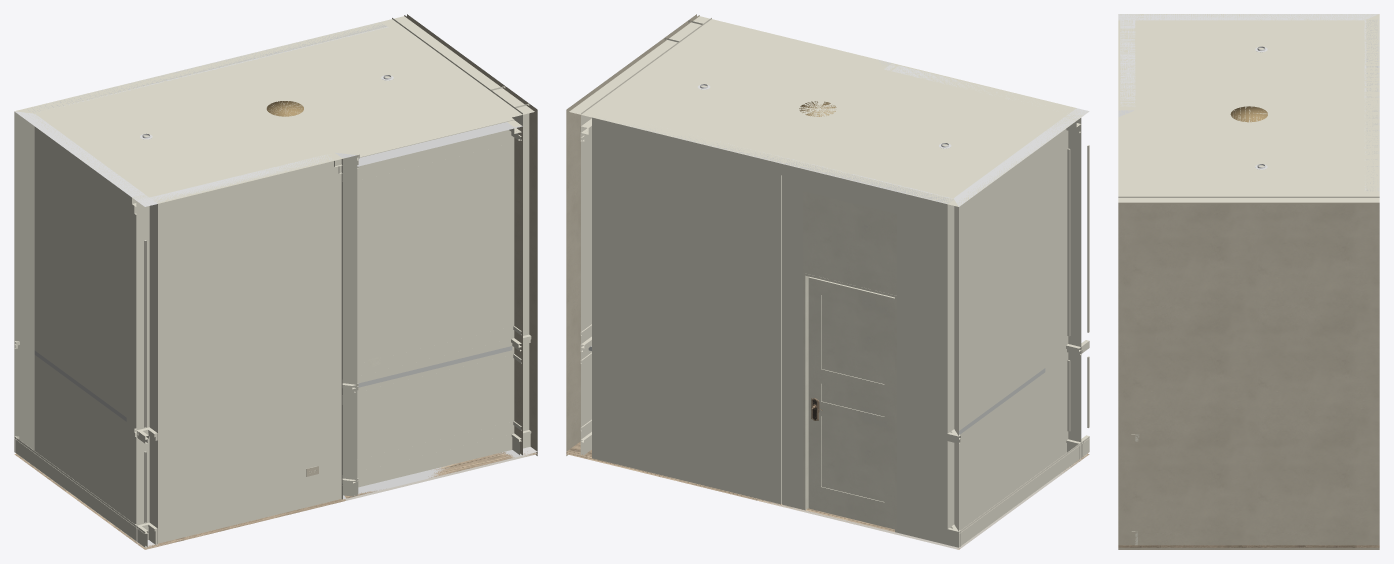
The model's file is pantry-e1a1a0a4acc9.glb.
3 views of the same model, side by side, from view 1: azimuth 30°, elevation 25°; view 2: azimuth 150°, elevation 25°; view 3: azimuth 270°, elevation 25° (orthographic).
Parts seen in each view (by area): view 1: pantry-e1ae12ec9cba52a2, pantry-e64cabe238f3e83a, pantry-2575515a05775d9e, pantry-5b6bbac285e58726, pantry-6a1144f4e43410bb, pantry-e462de76b61e99cf, pantry-1b1dac62f3b0f38e, pantry-ab25ce0be192bde7, pantry-2c29ddcb8551cb02, pantry-3b0077416469e01b, pantry-4b4a529ae091588b, pantry-fd42d08ba78d189d (+9 smaller); view 2: pantry-bd4023b7987ad736, pantry-2575515a05775d9e, pantry-5b6bbac285e58726, pantry-90d279c9f3741083, pantry-af97eba351c411ae, pantry-151470939db8c09f, pantry-2c29ddcb8551cb02, pantry-b9e31e055fa428f9, pantry-4b4a529ae091588b, pantry-6a1144f4e43410bb, pantry-3b0077416469e01b, pantry-ecf72e0057751250 (+4 smaller); view 3: pantry-af97eba351c411ae, pantry-2575515a05775d9e, pantry-ab25ce0be192bde7, pantry-e462de76b61e99cf, pantry-4b4a529ae091588b, pantry-5b6bbac285e58726, pantry-e1ae12ec9cba52a2, pantry-ecf72e0057751250, pantry-710b1f455b9f0804, pantry-bd4023b7987ad736, pantry-deb6bd5c54985daf, pantry-3b0077416469e01b (+2 smaller).
Part boxes in pixels (bbox=[...]): pantry-e1ae12ec9cba52a2: bbox=[149, 154, 341, 543]; pantry-e64cabe238f3e83a: bbox=[342, 122, 522, 495]; pantry-2575515a05775d9e: bbox=[15, 15, 534, 203]; pantry-5b6bbac285e58726: bbox=[14, 111, 149, 540]; pantry-6a1144f4e43410bb: bbox=[136, 197, 157, 546]; pantry-e462de76b61e99cf: bbox=[514, 104, 537, 455]; pantry-1b1dac62f3b0f38e: bbox=[135, 434, 512, 524]; pantry-ab25ce0be192bde7: bbox=[490, 86, 529, 431]; pantry-2c29ddcb8551cb02: bbox=[14, 437, 145, 547]; pantry-3b0077416469e01b: bbox=[14, 451, 537, 549]; pantry-4b4a529ae091588b: bbox=[35, 27, 391, 116]; pantry-fd42d08ba78d189d: bbox=[357, 117, 514, 172]; pantry-bd4023b7987ad736: bbox=[592, 117, 954, 544]; pantry-2575515a05775d9e: bbox=[569, 15, 1087, 206]; pantry-5b6bbac285e58726: bbox=[953, 114, 1081, 547]; pantry-90d279c9f3741083: bbox=[808, 277, 894, 529]; pantry-af97eba351c411ae: bbox=[566, 37, 679, 455]; pantry-151470939db8c09f: bbox=[803, 191, 896, 295]; pantry-2c29ddcb8551cb02: bbox=[959, 436, 1089, 547]; pantry-b9e31e055fa428f9: bbox=[803, 273, 896, 532]; pantry-4b4a529ae091588b: bbox=[601, 110, 957, 198]; pantry-6a1144f4e43410bb: bbox=[1068, 108, 1089, 440]; pantry-3b0077416469e01b: bbox=[566, 441, 1089, 549]; pantry-ecf72e0057751250: bbox=[625, 120, 953, 216]; pantry-af97eba351c411ae: bbox=[1183, 196, 1379, 545]; pantry-2575515a05775d9e: bbox=[1118, 14, 1379, 203]; pantry-ab25ce0be192bde7: bbox=[1135, 196, 1182, 545]; pantry-e462de76b61e99cf: bbox=[1118, 196, 1135, 545]; pantry-4b4a529ae091588b: bbox=[1355, 20, 1364, 192]; pantry-5b6bbac285e58726: bbox=[1135, 14, 1378, 20]; pantry-e1ae12ec9cba52a2: bbox=[1120, 20, 1135, 106]; pantry-ecf72e0057751250: bbox=[1368, 19, 1376, 192]; pantry-710b1f455b9f0804: bbox=[1135, 14, 1144, 109]; pantry-bd4023b7987ad736: bbox=[1364, 19, 1379, 191]; pantry-deb6bd5c54985daf: bbox=[1144, 20, 1355, 24]; pantry-3b0077416469e01b: bbox=[1118, 545, 1379, 547].
Size of the model in its own units: 3.62 by 3.05 by 2.09.
Materials: 24 (4 with a texture image).
